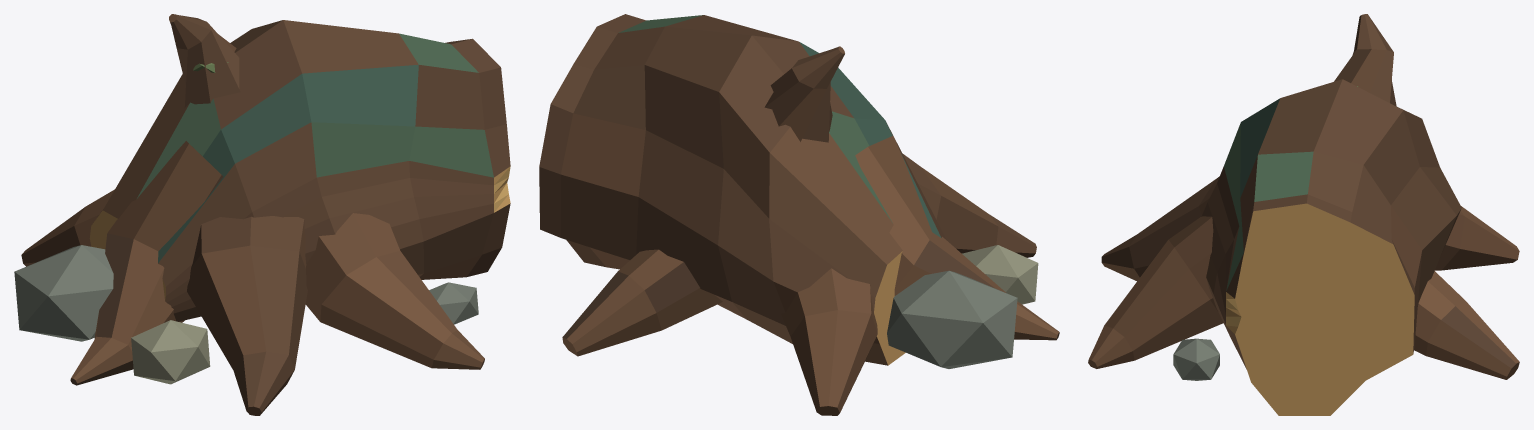
The model's file is rootfall-left.glb.
3 renders of one model, left to right at view 1: azimuth 30°, elevation 25°; view 2: azimuth 150°, elevation 25°; view 3: azimuth 270°, elevation 25°, orthographic. The views are drawn at different scales.
Visible parts, largest first — view 1: rootfall-left; view 2: rootfall-left; view 3: rootfall-left.
Part boxes in pixels (box(x1,y1,x2,y2)): rootfall-left: box(14, 14, 510, 415); rootfall-left: box(539, 14, 1059, 415); rootfall-left: box(1088, 14, 1519, 415).
Size of the model in its own units: 5.26 by 3.47 by 4.78.
Materials: 1 (1 with a texture image).
